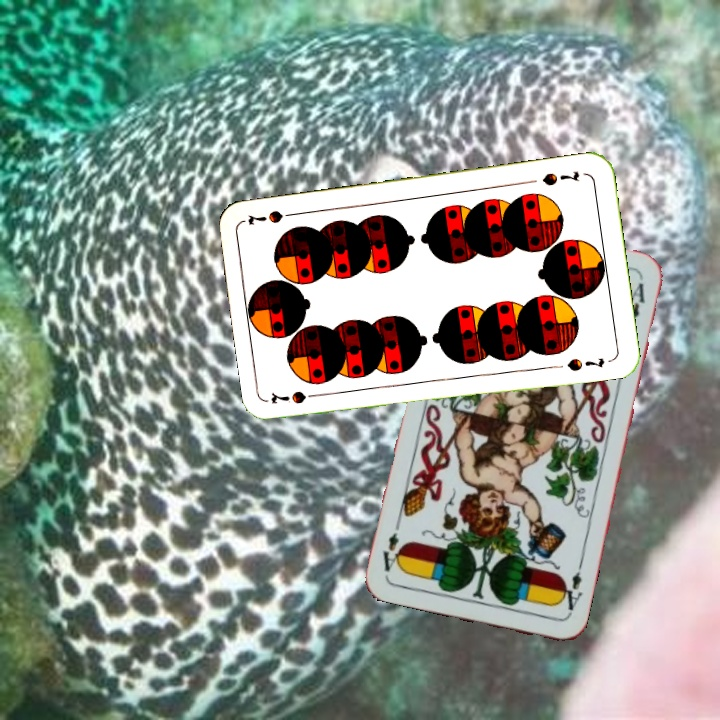EA: (555, 559, 585, 618)
S7: (267, 387, 326, 407), (538, 167, 582, 189)
